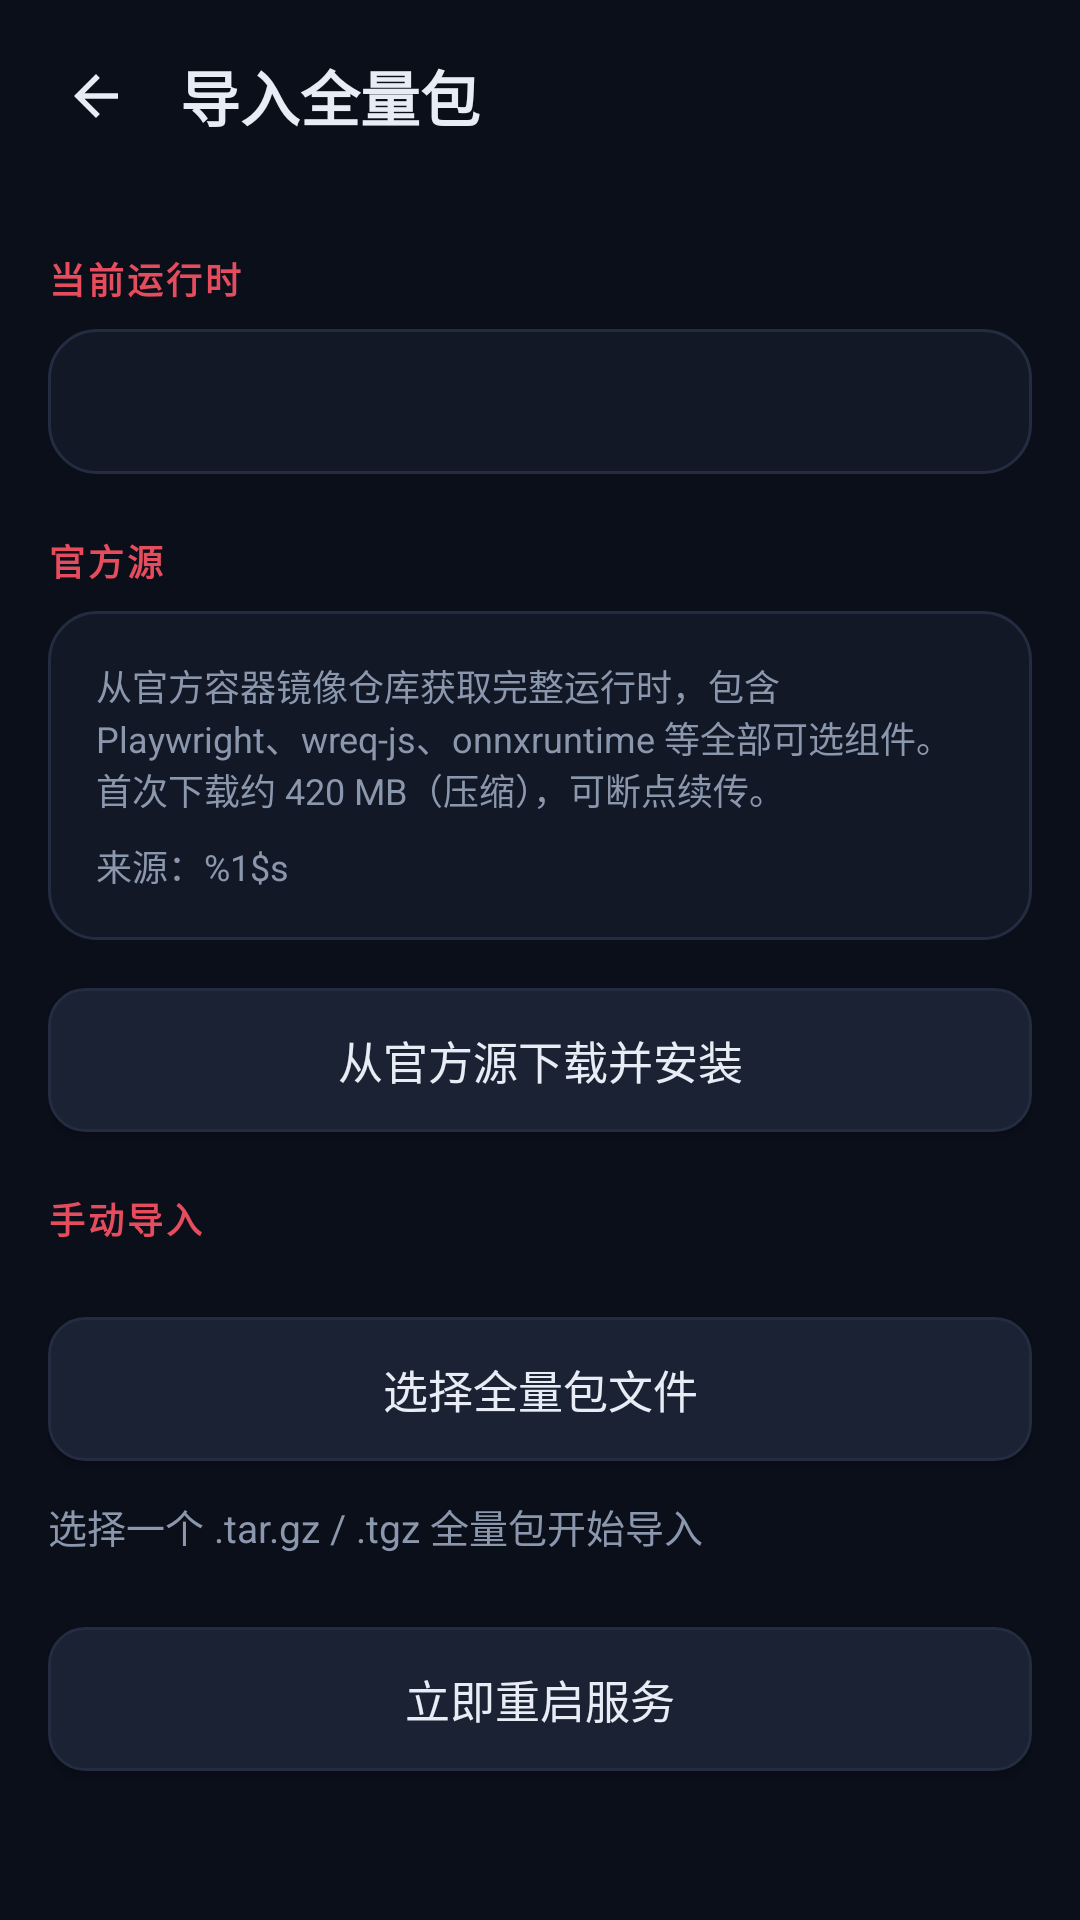

Screen size 1080×1920. Icon name, then its center in pixels as [x,y]:
返回: [96,96]
